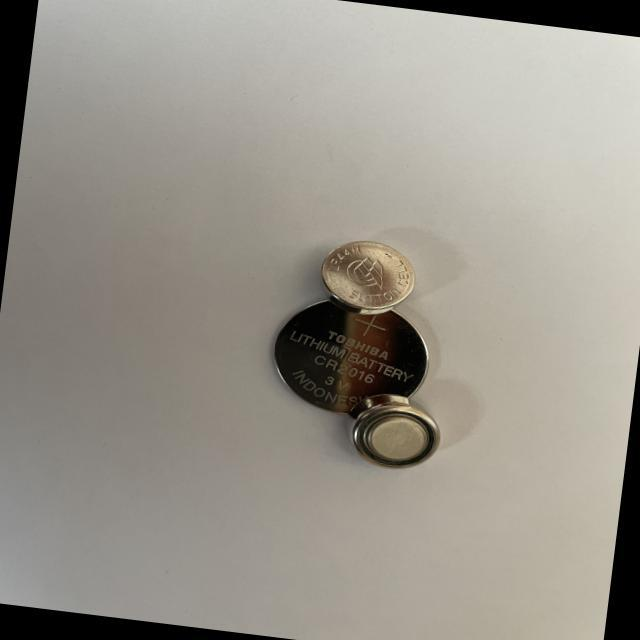COIN: (266, 292, 434, 422), (315, 234, 417, 320), (341, 388, 444, 473)
